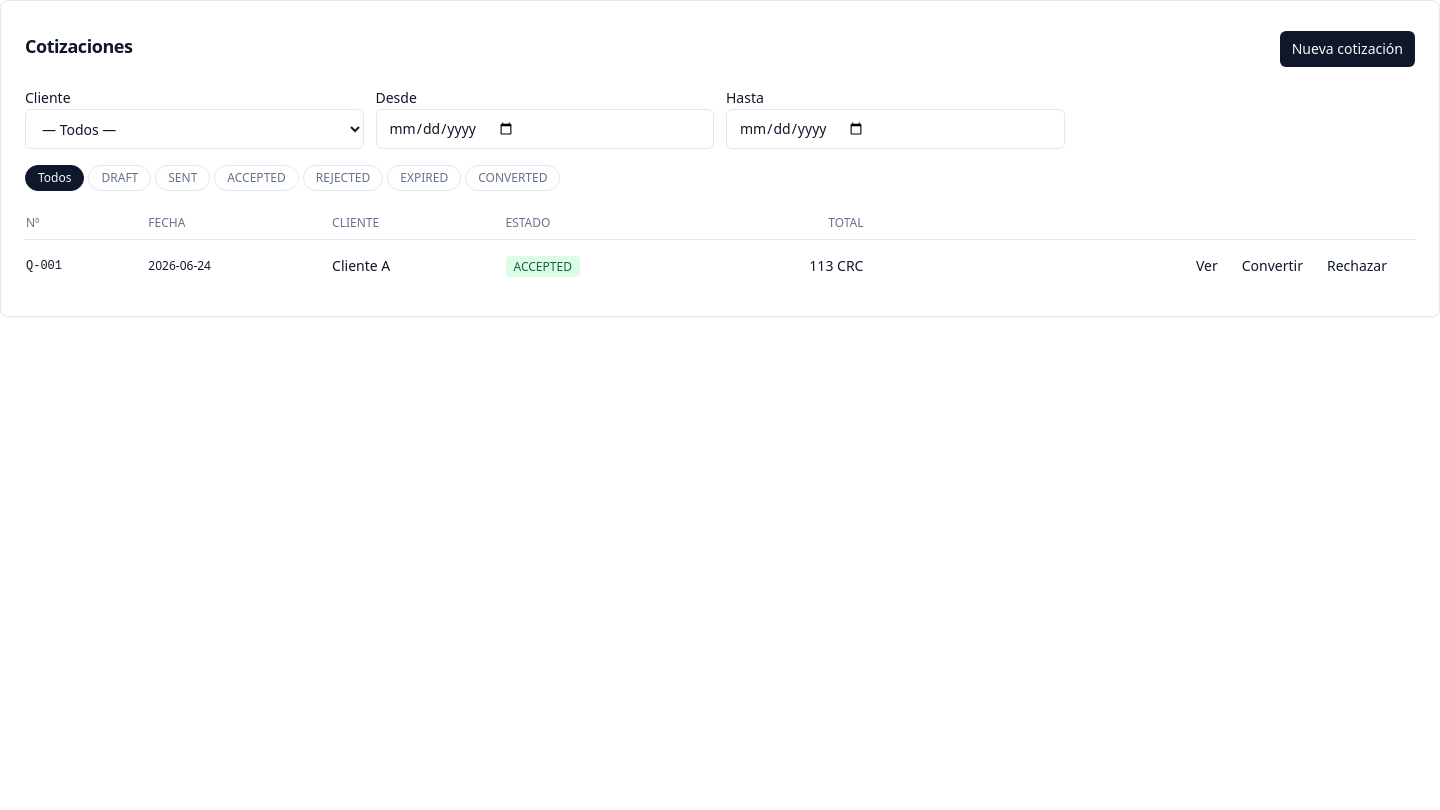
QuotationsPage — selector de nivel de precio por línea (PR-37) › al cambiar a Precio 2: autocompleta precio a 180 y margen ef. ≈ 44.44 %
This screenshot has width=1440, height=810.
Step 1. Click the button "Nueva cotización" → (1347, 49), box [1280,31,1415,67]
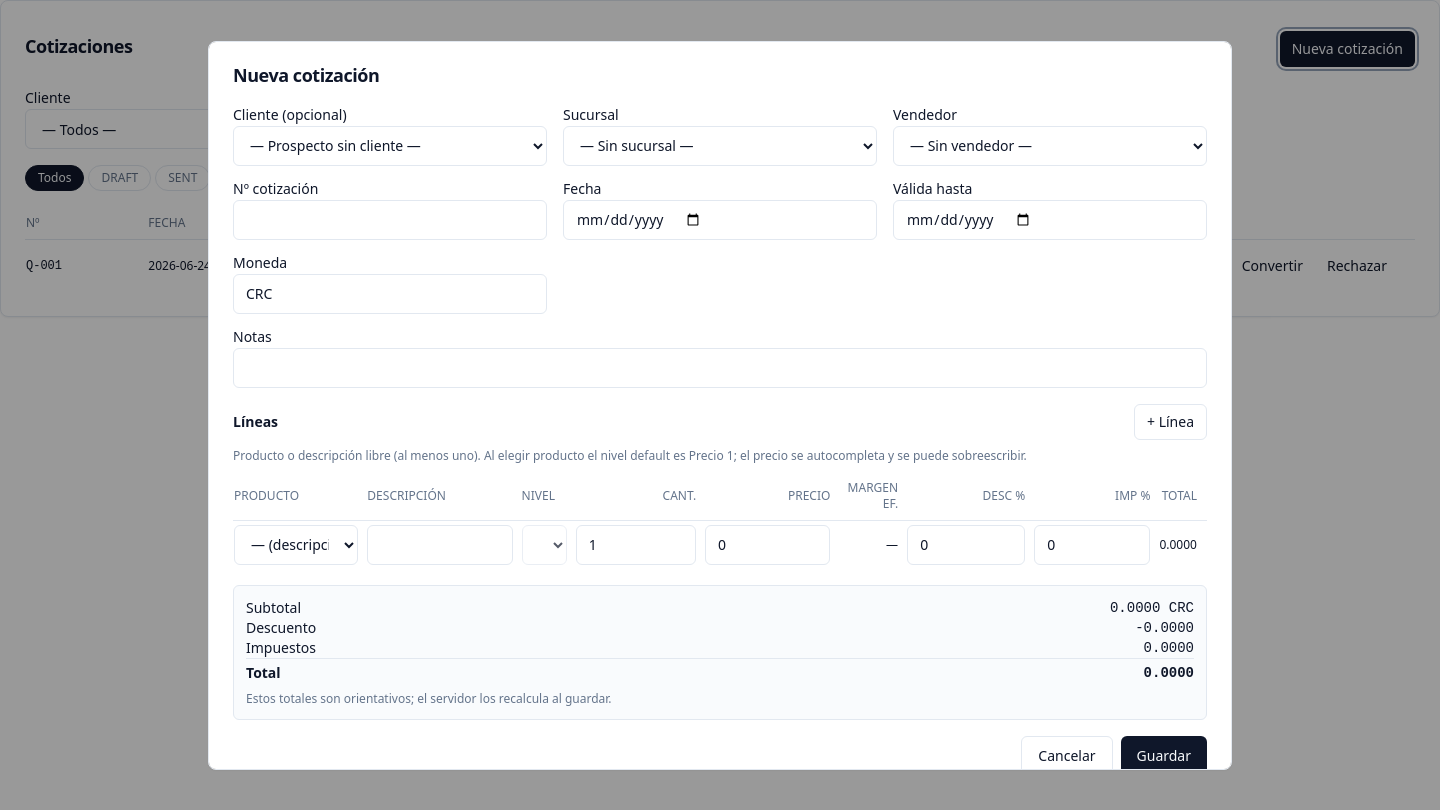
Now the dropdown named "producto línea 1" is shown
Step 2. Select "P-1 — Producto X" in the dropdown named "producto línea 1" → (296, 544), box [234,524,358,564]
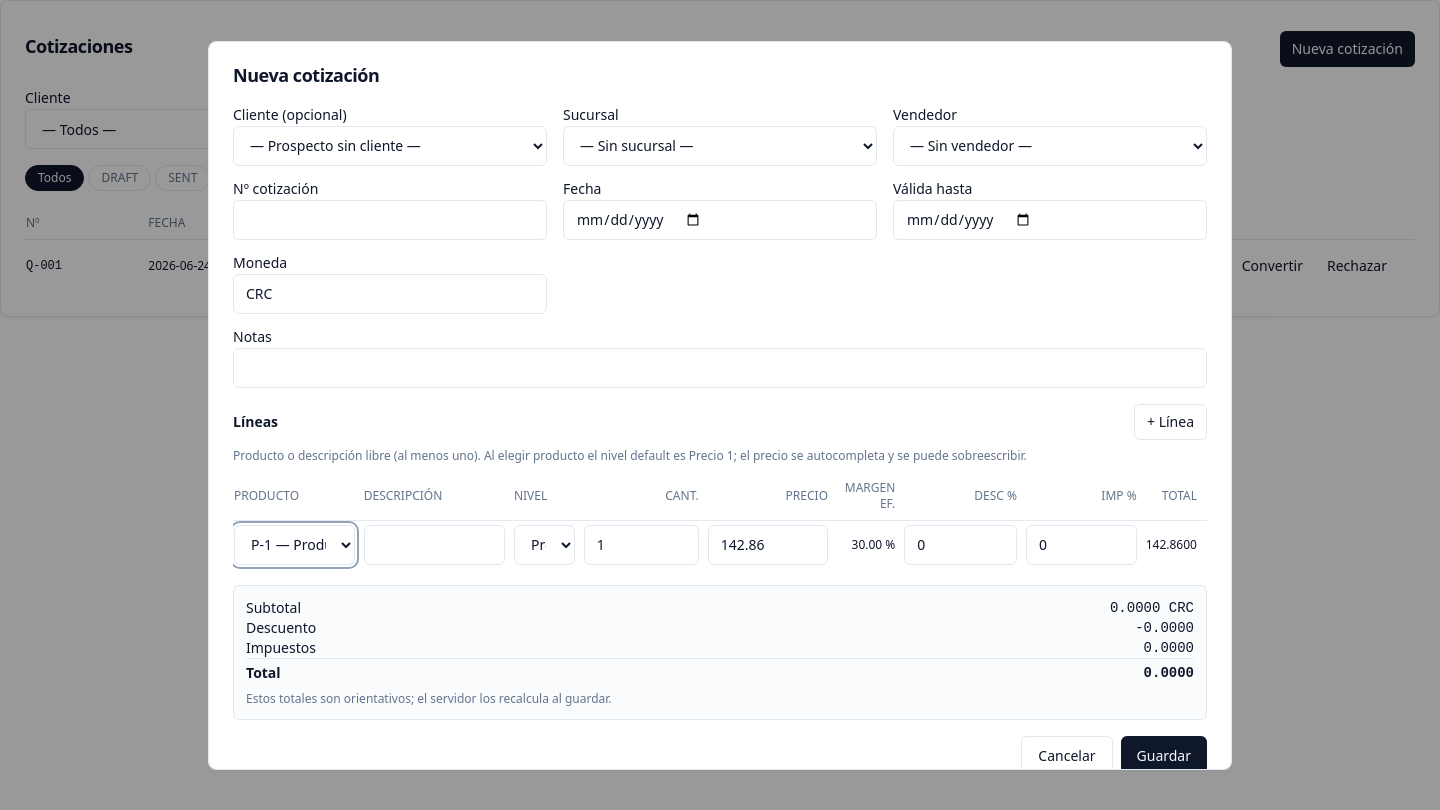
Now the dropdown with test id "quote-line-level-0" shows "Precio 1"
Step 3. Select "Precio 2" in the dropdown with test id "quote-line-level-0" → (544, 544), box [514,524,575,564]
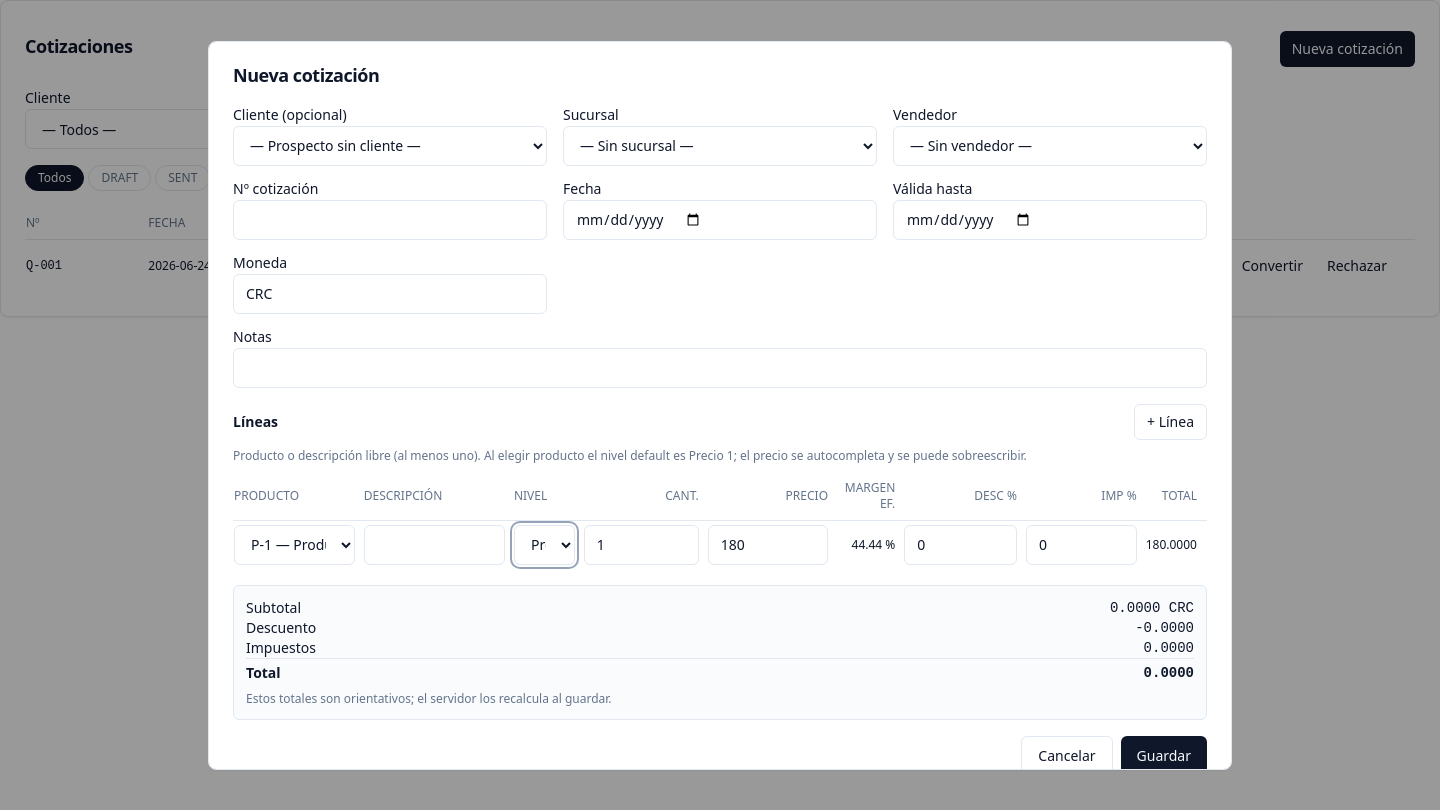
Now the field named "precio línea 1" holds "180", box [708,524,828,564]
Now the cell with test id "quote-line-margin-0" reads "44.44 %", box [852,536,895,552]
